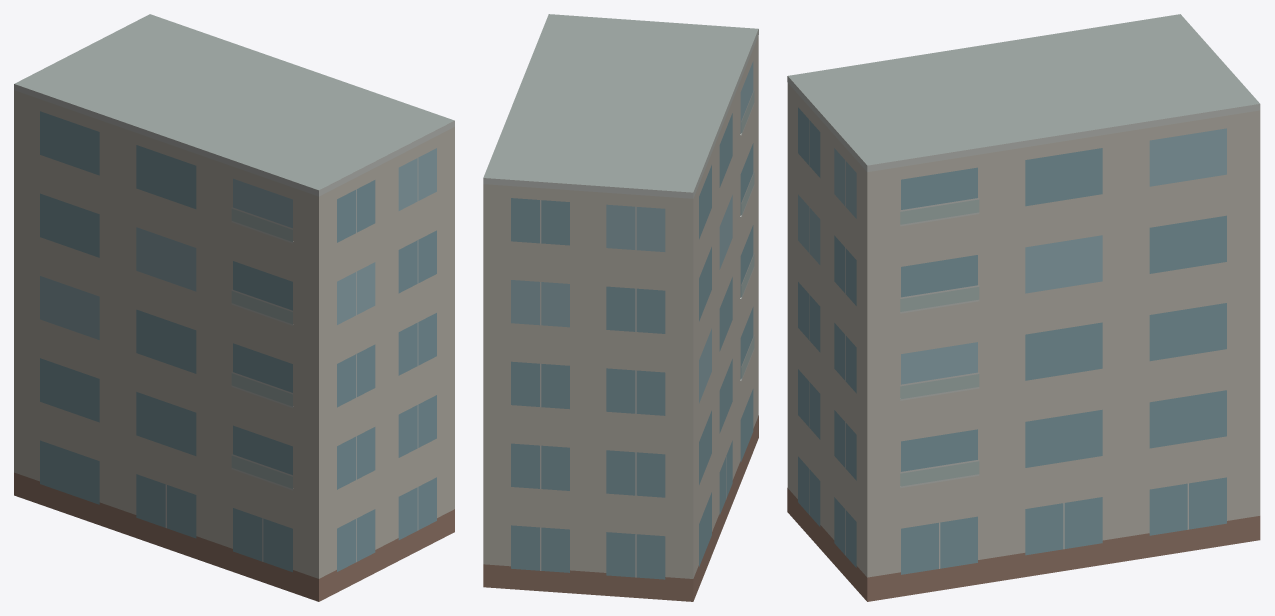
The model's file is survey-upis-32989337.glb.
3 views of the same model, side by side, from view 1: azimuth 30°, elevation 25°; view 2: azimuth 150°, elevation 25°; view 3: azimuth 270°, elevation 25° (orthographic). The views are drawn at different scales.
Visible parts, largest first — view 1: survey-upis-32989337.tmp; view 2: survey-upis-32989337.tmp; view 3: survey-upis-32989337.tmp.
Boxes of the visible parts, x1,y1,x2,y2 form: survey-upis-32989337.tmp: [14, 14, 454, 601]; survey-upis-32989337.tmp: [483, 14, 758, 601]; survey-upis-32989337.tmp: [787, 14, 1260, 601].
Size of the model in its own units: 12.01 by 16.1 by 15.82.
